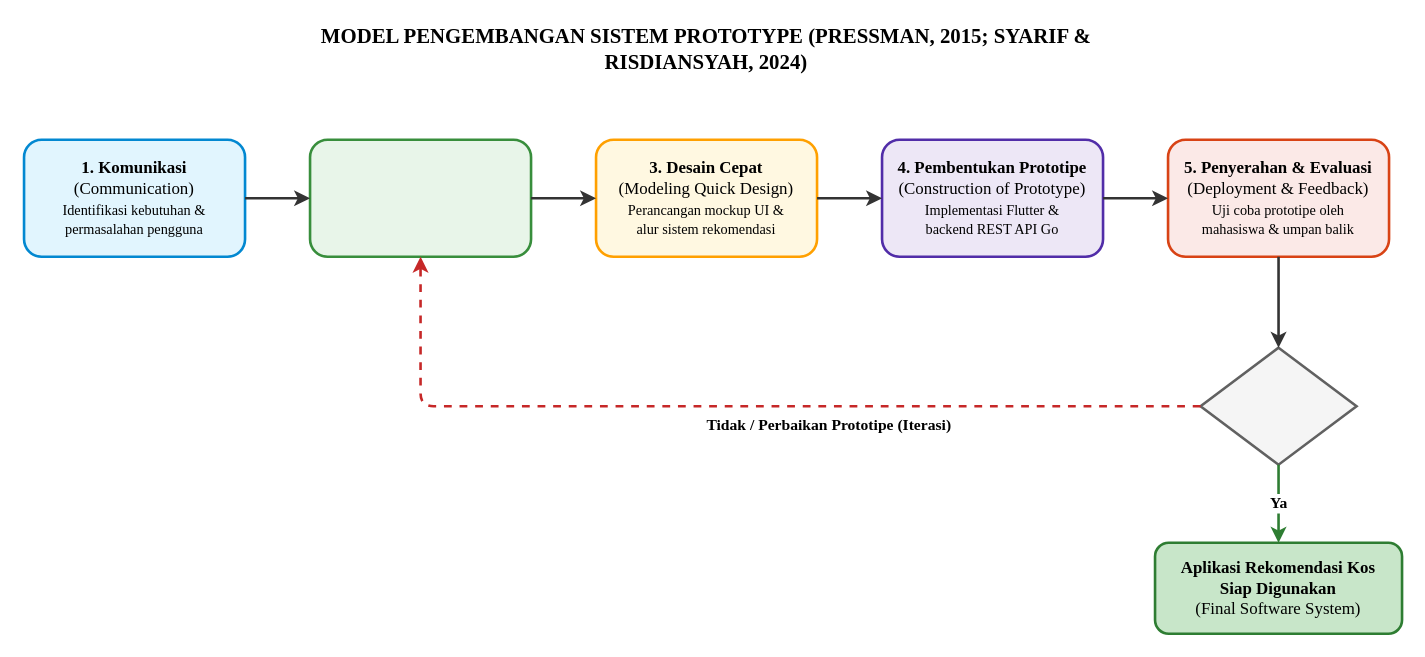
The diagram is 1425 pixels wide and 657 high, and some of its shapes have lost their labels. The shapes that lost their labels are listed below. From the top down, each one's centre as x and y in pixels, then its label:
At point (420, 197): "2. Perencanaan Cepat (Quick Plan) Penyusunan jadwal & ruang lingkup fitur kos".
At point (1278, 405): "Kebutuhan Terpenuhi?".
